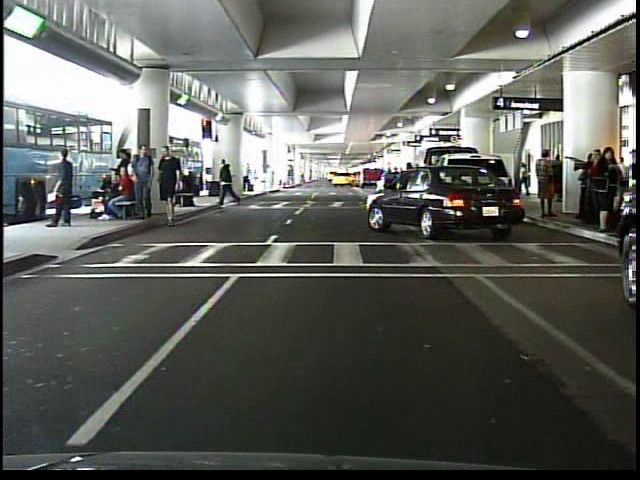person: (51, 143, 84, 234), (532, 148, 557, 219), (217, 158, 242, 207), (518, 158, 535, 199)
